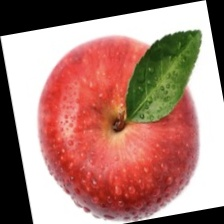apple: (60, 21, 208, 168)
